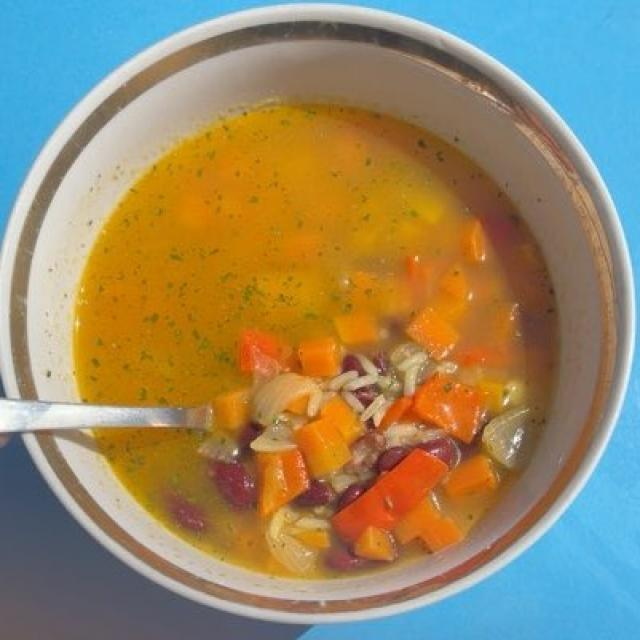beans: (153, 434, 462, 570)
bouillon: (76, 103, 551, 574)
rice: (330, 341, 431, 429)
